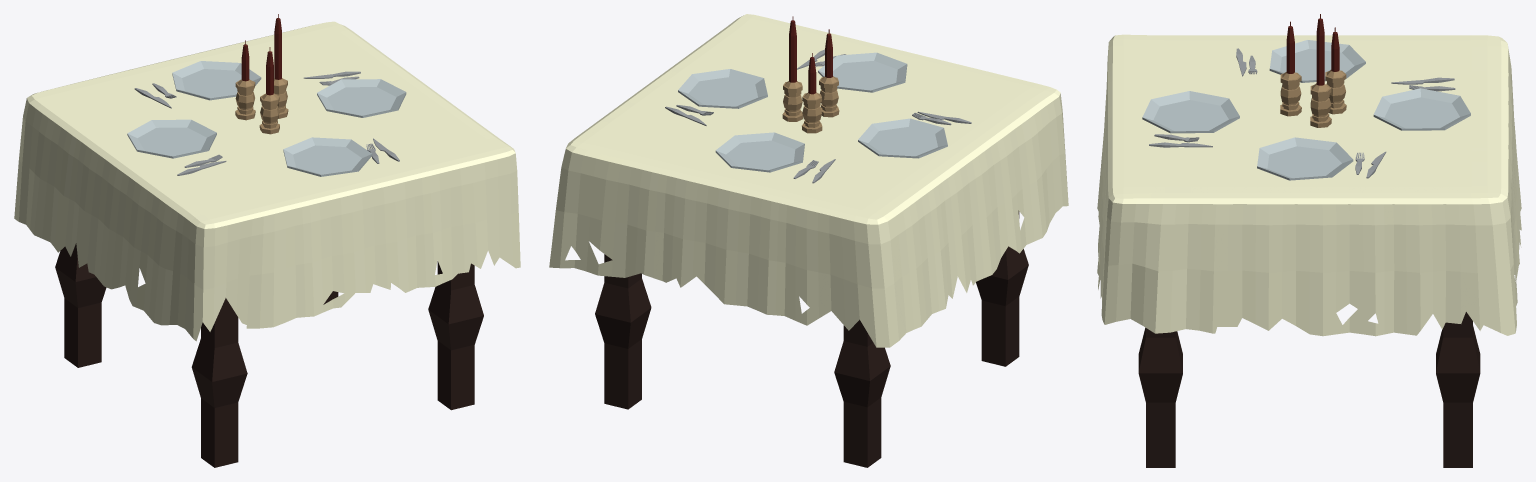
The model's file is Pentacles_Deco_Table.fbx.
The picture shows the model from 3 angles, left to right: view 1: azimuth 30°, elevation 25°; view 2: azimuth 150°, elevation 25°; view 3: azimuth 270°, elevation 25°; orthographic projection. The views are drawn at different scales.
Visible parts, largest first — view 1: tischdecke.001; view 2: tischdecke.001; view 3: tischdecke.001.
Boxes of the visible parts, left/top/right/bottom form: tischdecke.001: left=14, top=14, right=520, bottom=467; tischdecke.001: left=549, top=14, right=1068, bottom=467; tischdecke.001: left=1097, top=14, right=1521, bottom=467.
Size of the model in its own units: 281 by 281 by 275.
